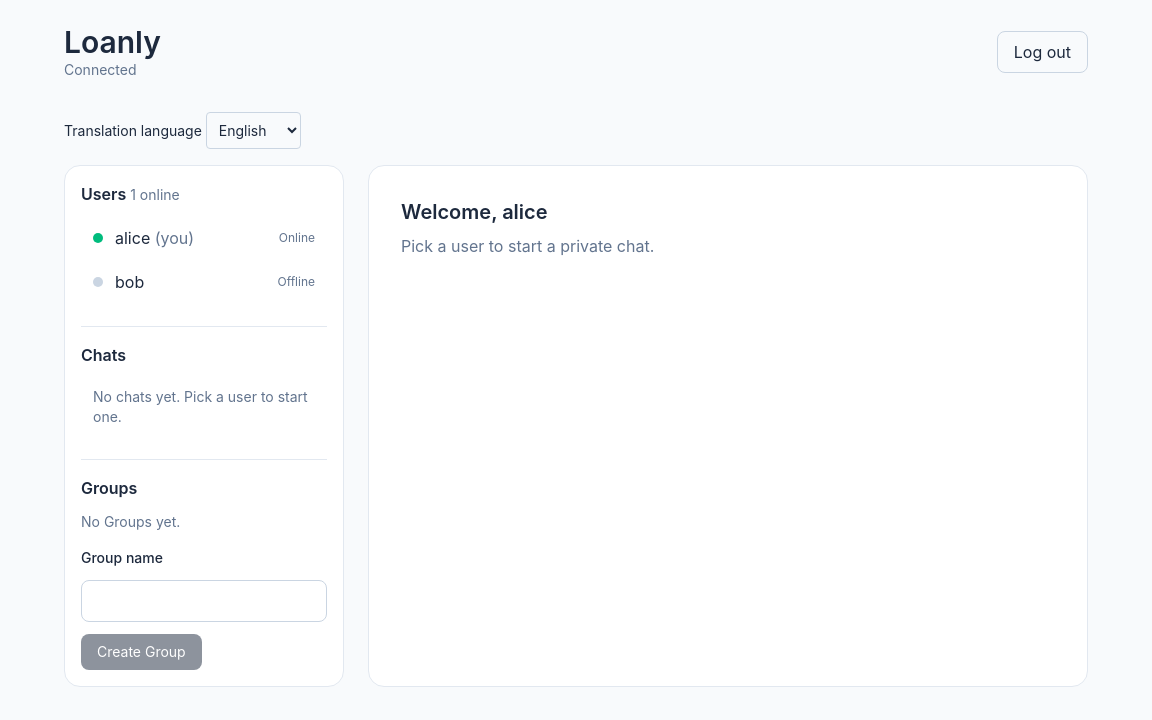
Test case: verified JWT connects existing chat; logout closes WS, clears token and removes the user list
This screenshot has width=1152, height=720.
expect the button "bob" is shown: met, box [115,270,266,294]
Click the button "Log out": (1042, 52) [997,31,1088,73]
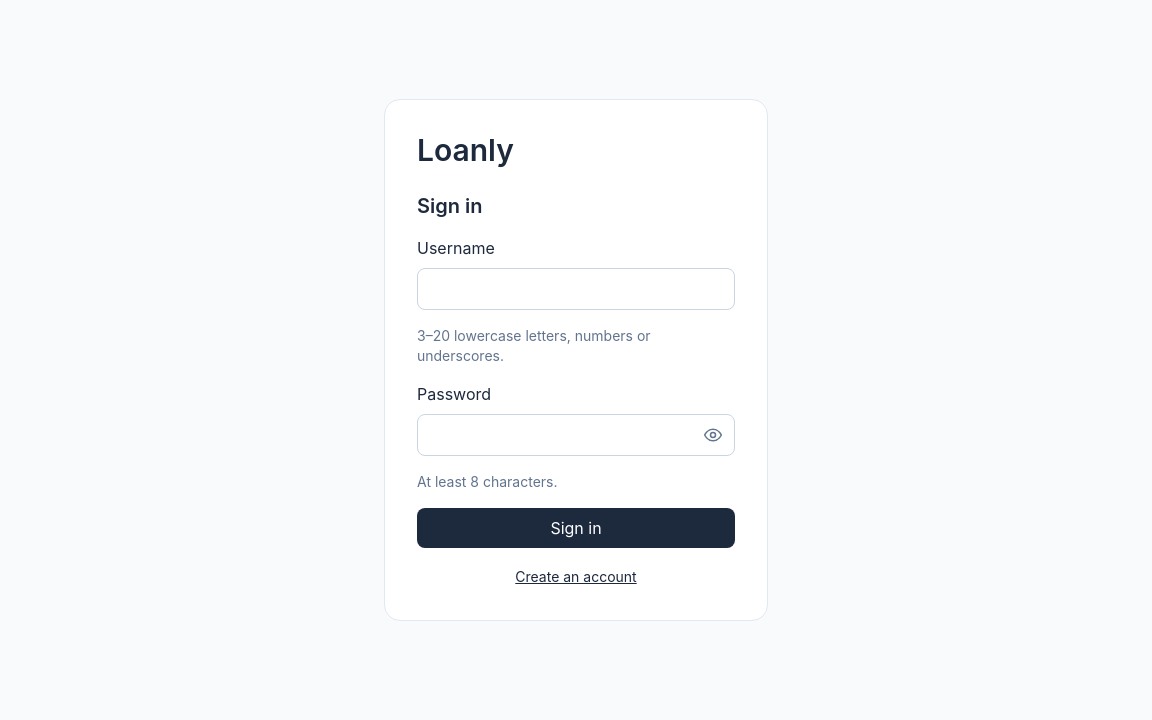
expect the button "bob" is gone: met
expect the button "Sign in" is shown: met, box [417,508,735,548]
